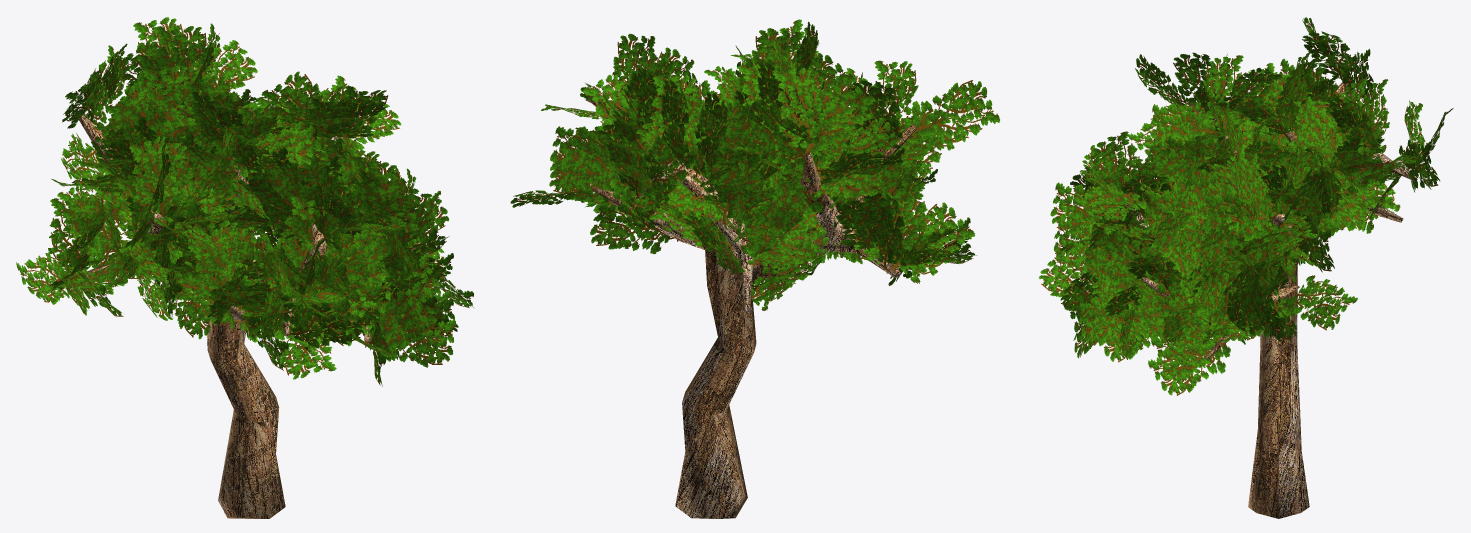
Rendered from ArvoreNormal2.glb.
3 renders of one model, left to right at view 1: azimuth 30°, elevation 25°; view 2: azimuth 150°, elevation 25°; view 3: azimuth 270°, elevation 25°, orthographic. The views are drawn at different scales.
Parts seen in each view (by area): view 1: arvoreNormal2; view 2: arvoreNormal2; view 3: arvoreNormal2.
Boxes of the visible parts, x1,y1,x2,y2 form: arvoreNormal2: (16,17,474,518); arvoreNormal2: (510,19,999,518); arvoreNormal2: (1039,17,1453,518).
Bounding box in the file's own units: 5.03 × 5.57 × 4.83.
2 materials, 2 textured.
